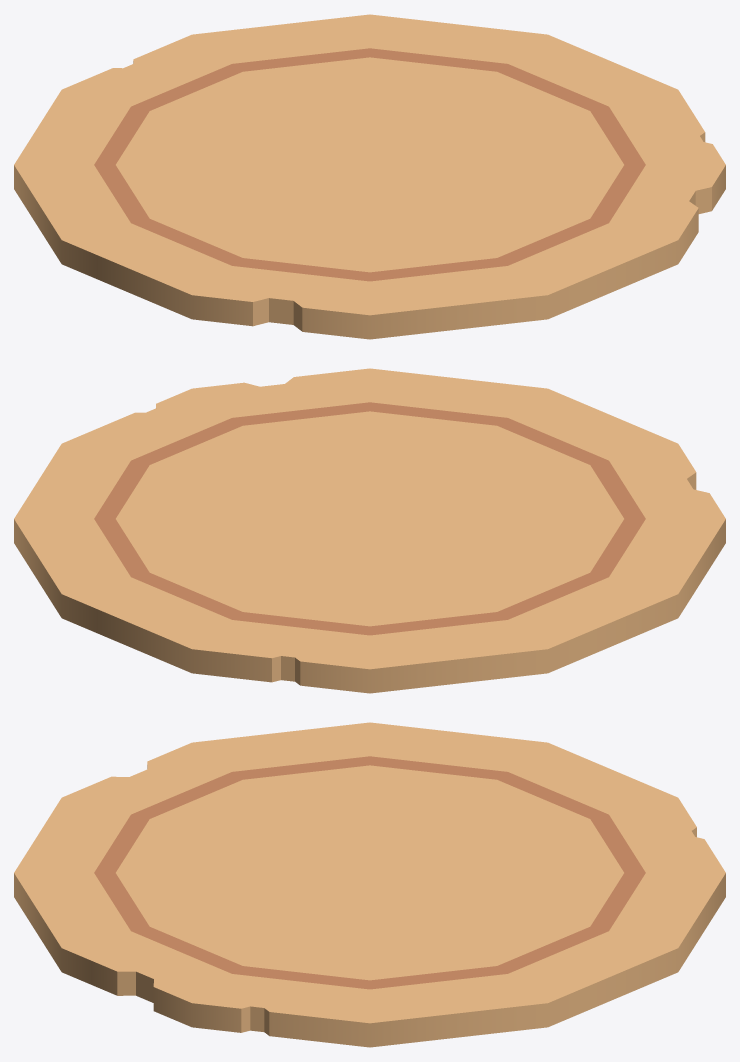
The model's file is cuttingBoardRound.dae.
3 renders of one model, top to bottom at view 1: azimuth 30°, elevation 25°; view 2: azimuth 150°, elevation 25°; view 3: azimuth 270°, elevation 25°, orthographic.
Visible parts, largest first — view 1: cuttingBoardRound; view 2: cuttingBoardRound; view 3: cuttingBoardRound.
Part boxes in pixels (x1,y1,x2,y2): cuttingBoardRound: (14, 14, 725, 339); cuttingBoardRound: (14, 368, 725, 693); cuttingBoardRound: (14, 722, 725, 1047).
Bounding box in the file's own units: 0.8 × 0.03 × 0.8.
